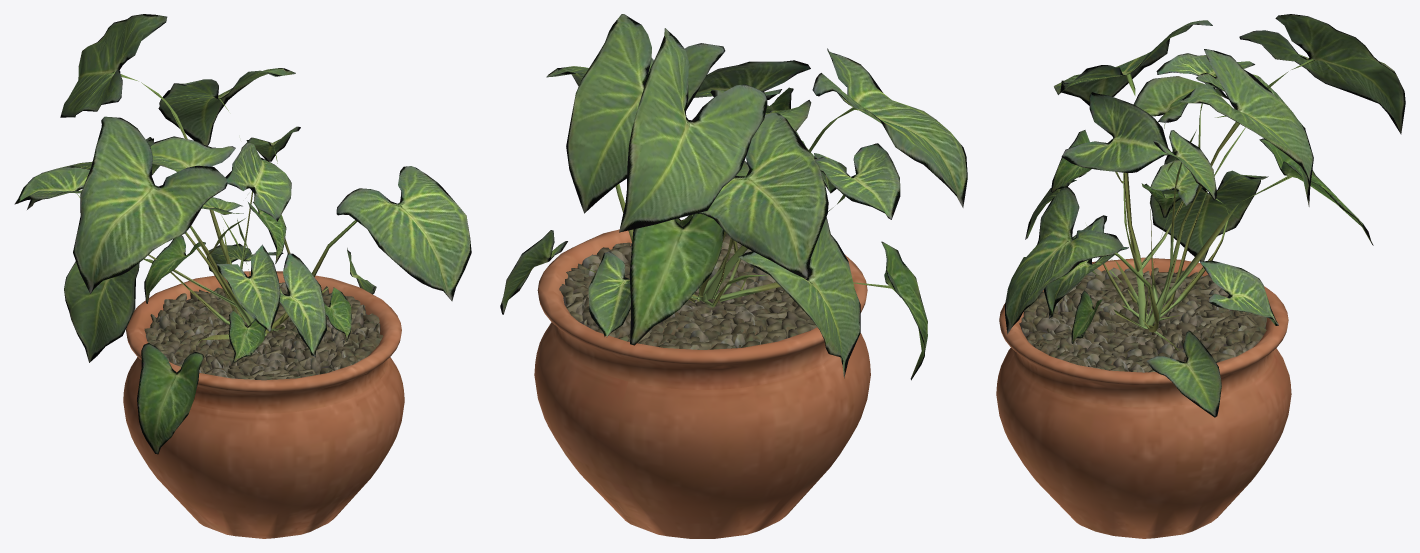
File: plant.mobile.glb
The picture shows the model from 3 angles, left to right: view 1: azimuth 30°, elevation 25°; view 2: azimuth 150°, elevation 25°; view 3: azimuth 270°, elevation 25°; orthographic projection. The views are drawn at different scales.
Visible parts, largest first — view 1: potted_plant_02_leaves, potted_plant_02_pot; view 2: potted_plant_02_leaves, potted_plant_02_pot; view 3: potted_plant_02_pot, potted_plant_02_leaves.
Part boxes in pixels (box(x1,y1,x2,y2)): potted_plant_02_leaves: box(14, 14, 471, 454); potted_plant_02_pot: box(123, 271, 404, 538); potted_plant_02_leaves: box(500, 14, 967, 380); potted_plant_02_pot: box(534, 220, 870, 538); potted_plant_02_pot: box(996, 257, 1291, 538); potted_plant_02_leaves: box(1005, 14, 1405, 417).
Size of the model in its own units: 0.7009 by 0.8401 by 0.6574.
Materials: 2 (2 with a texture image).
